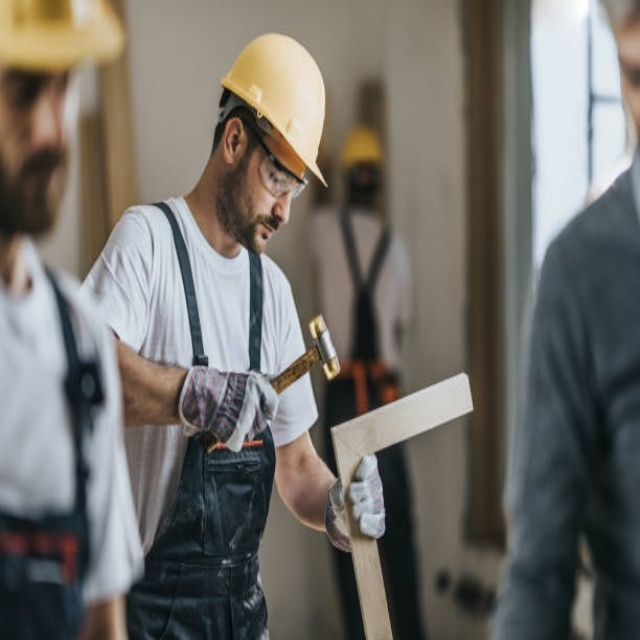Gafas: (246, 119, 310, 202)
Guantes: (174, 362, 283, 456), (322, 450, 391, 557)
Sin_mascara: (249, 215, 289, 249)
